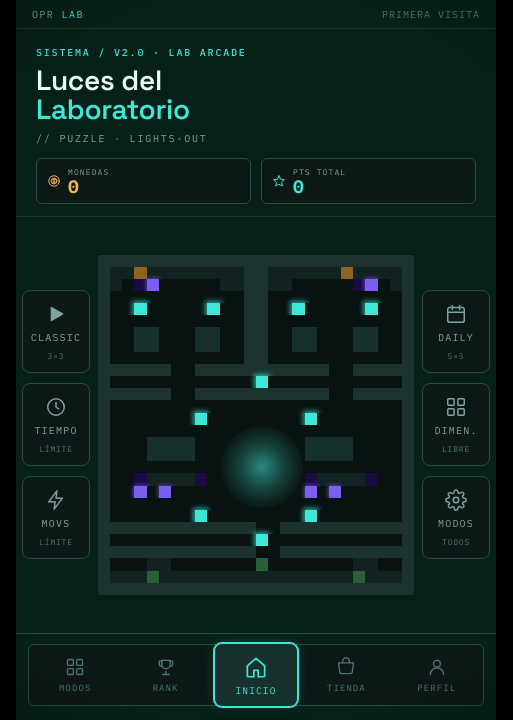
App › navigates to game and shows the board
Click the button with aria-label "Jugar Classic 3×3": {"x": 56, "y": 332} [22,290,90,373]
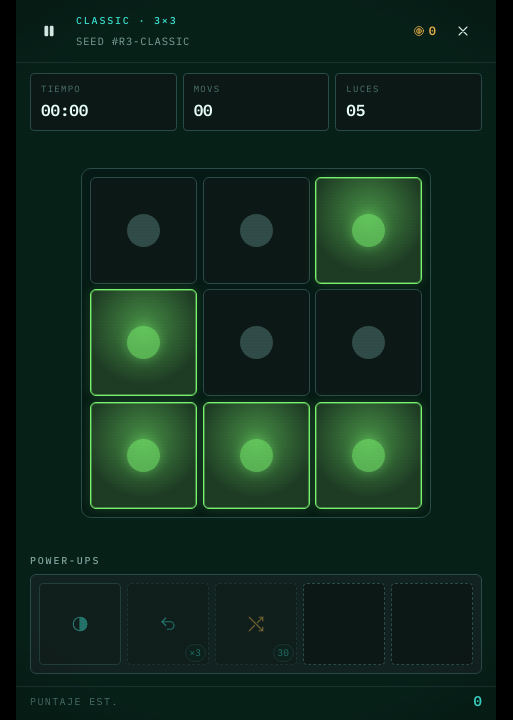
Expected: the table named "Tablero 3 por 3" is shown, [81,168,431,518]
